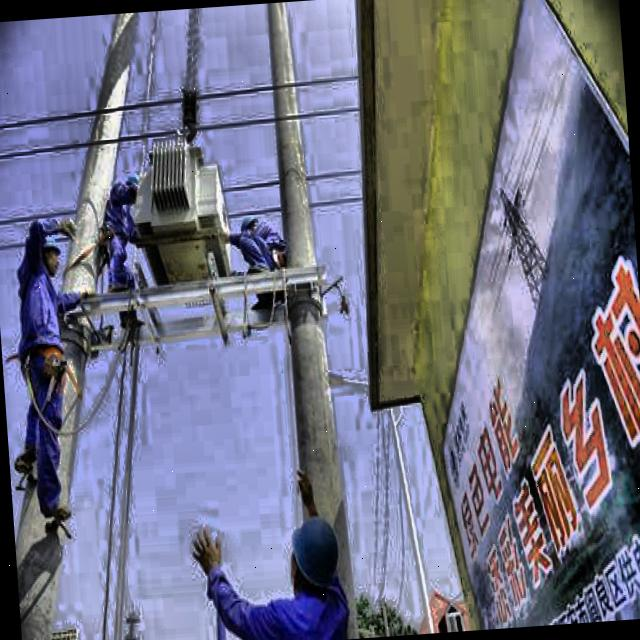helmet: (281, 510, 346, 600), (37, 232, 62, 278), (236, 208, 262, 241)
